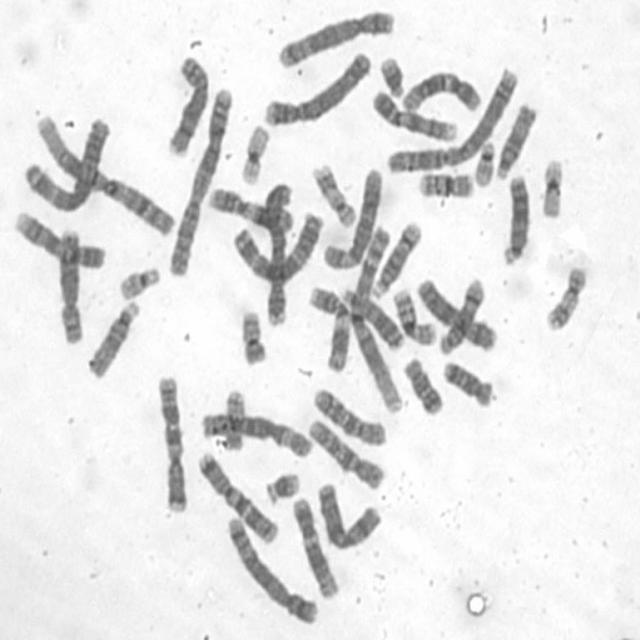A1: (34, 111, 178, 239), (347, 220, 404, 417)
A2: (382, 62, 522, 177), (164, 83, 234, 278)
A3: (20, 113, 111, 212), (230, 208, 324, 284)
B4: (260, 47, 372, 128), (263, 177, 297, 328)
B5: (224, 512, 320, 627), (274, 6, 397, 70)
C10: (305, 414, 387, 492), (310, 383, 387, 448)
C11: (204, 182, 294, 232), (306, 282, 352, 373)
C12: (290, 492, 341, 600), (399, 66, 484, 115)
C6: (320, 164, 384, 271), (198, 408, 315, 460)
C7: (194, 449, 280, 545), (154, 372, 191, 516)
C8: (162, 51, 211, 158), (55, 224, 84, 345)
C9: (11, 207, 106, 271), (368, 88, 458, 144)
D13: (336, 285, 406, 351), (498, 171, 531, 266)
D14: (369, 217, 423, 298), (436, 274, 488, 358)
D15: (84, 297, 142, 379), (492, 100, 538, 181)
E16: (388, 284, 438, 347), (415, 168, 476, 200)
E17: (309, 160, 356, 230), (542, 262, 588, 332)
E18: (400, 352, 444, 418), (440, 358, 494, 408)
F19: (237, 120, 272, 186), (539, 154, 565, 220)
F20: (237, 305, 268, 367), (220, 386, 247, 453)
G21: (263, 466, 300, 506), (378, 53, 405, 100)
G22: (116, 262, 162, 301), (470, 137, 497, 188)
X: (412, 274, 498, 352), (314, 479, 382, 552)
